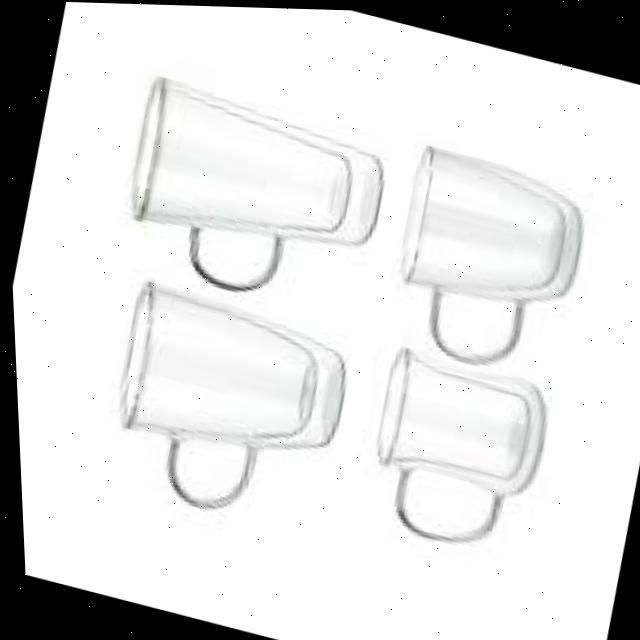Dry: (105, 66, 401, 323), (88, 277, 361, 538), (368, 135, 601, 385), (347, 335, 560, 562)
